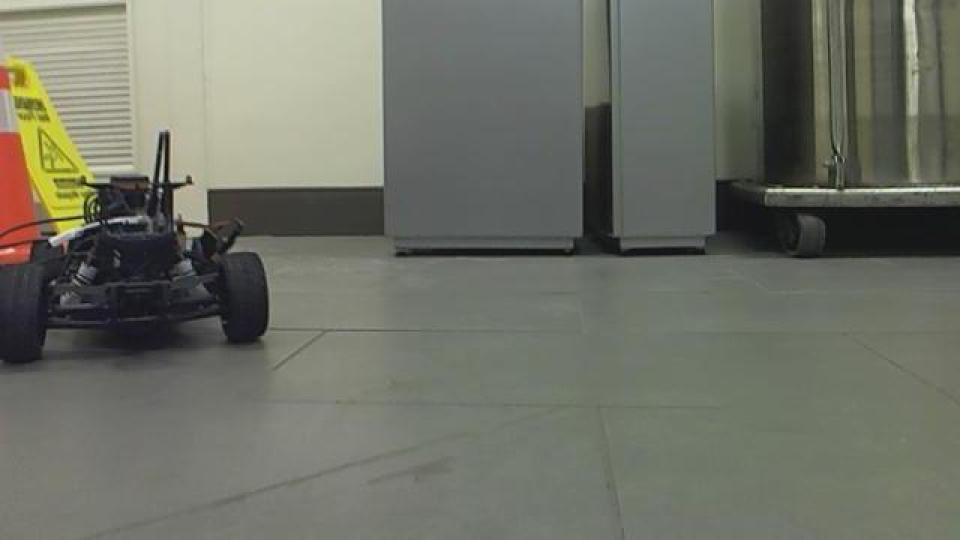car: (0, 128, 272, 366)
